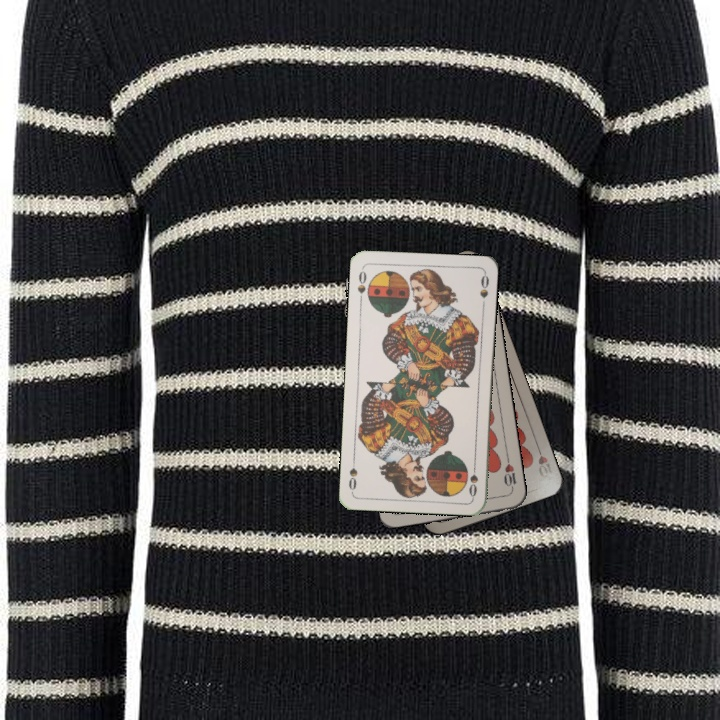H10: (532, 441, 557, 480), (500, 453, 519, 494)
SO: (465, 459, 480, 499), (354, 265, 369, 305)
